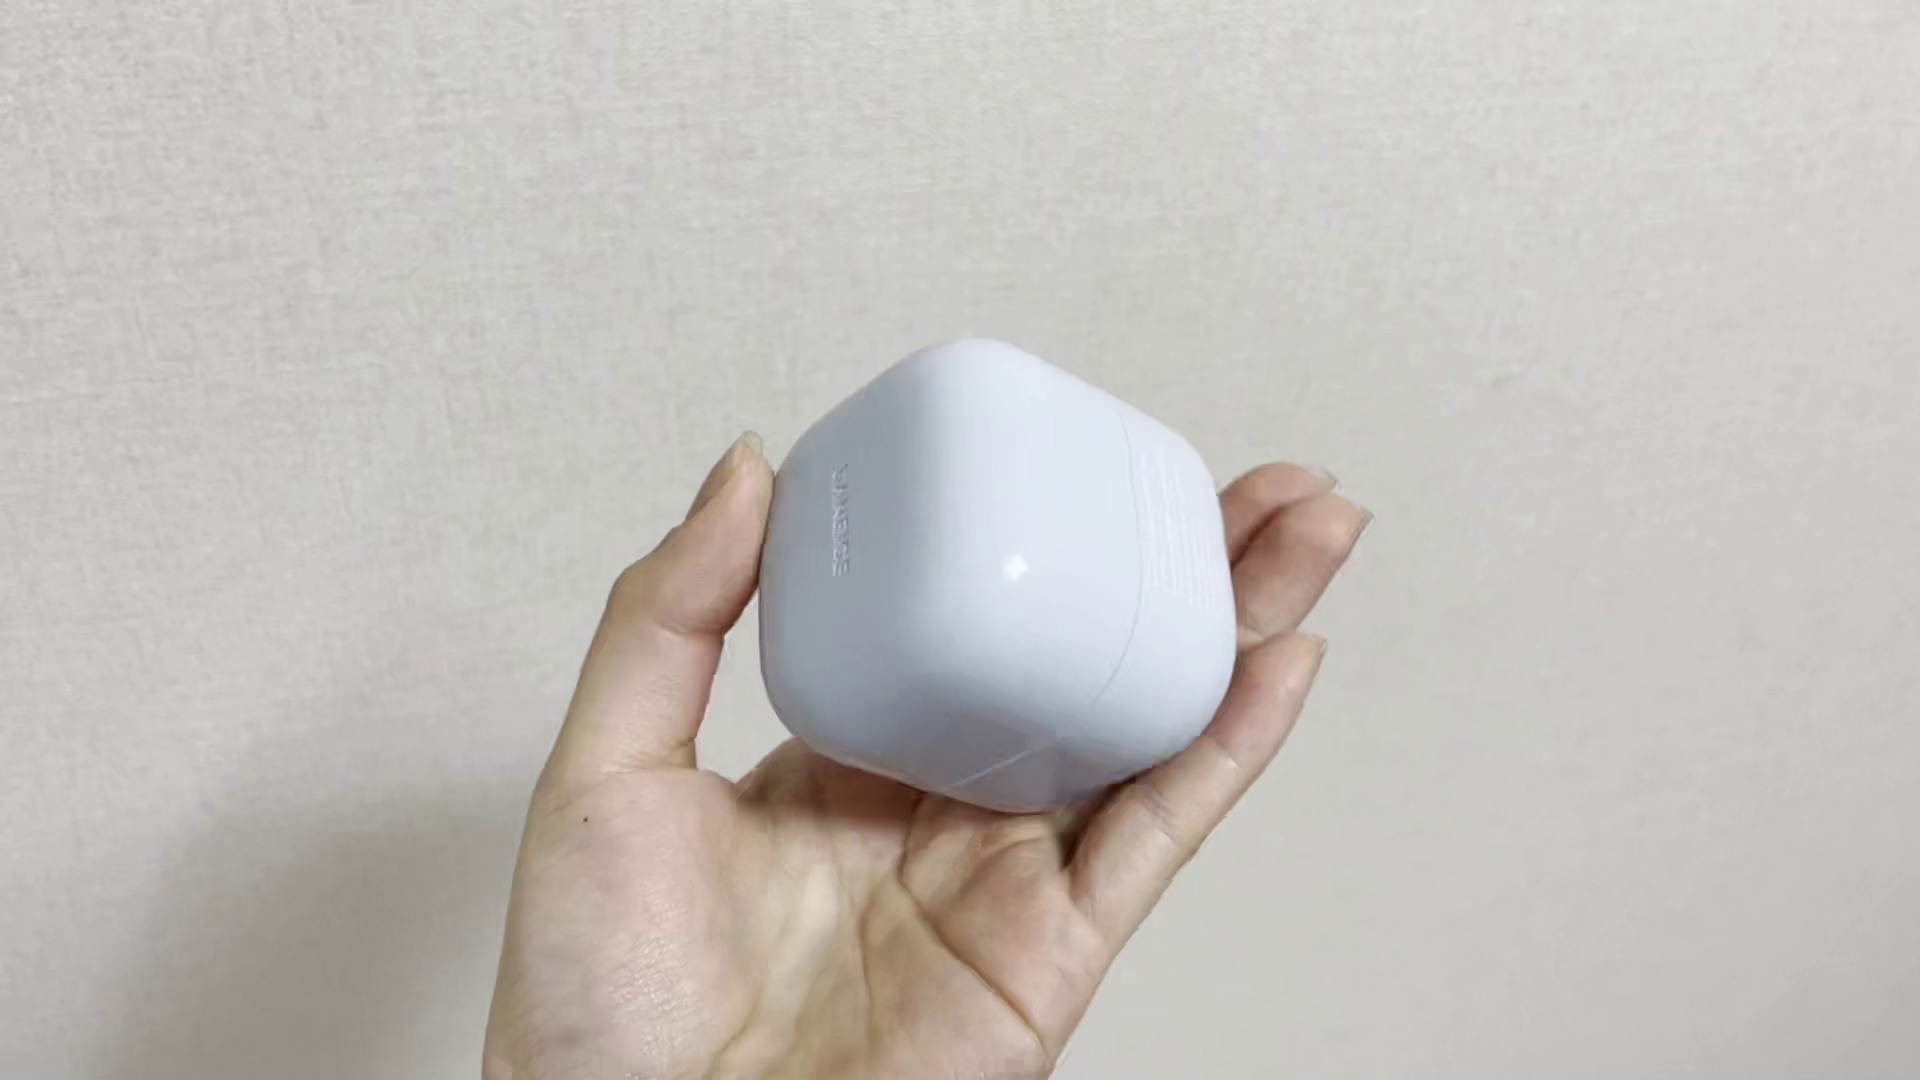cream: (748, 336, 1238, 816)
